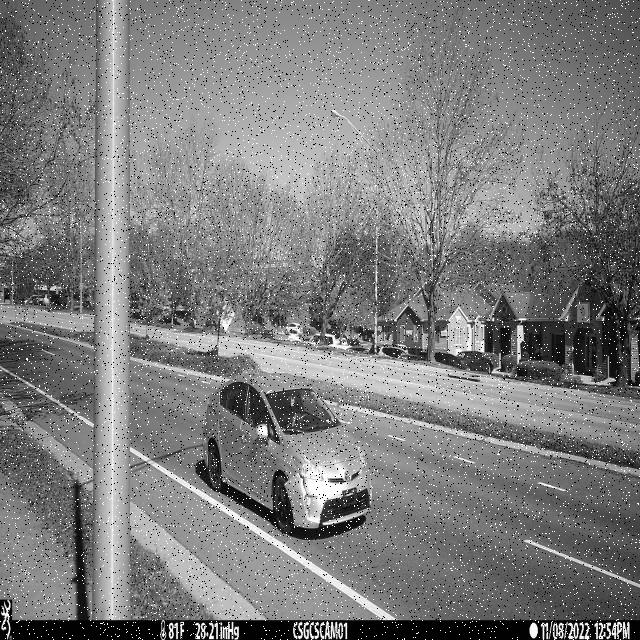Hatchback: (201, 374, 373, 535)
